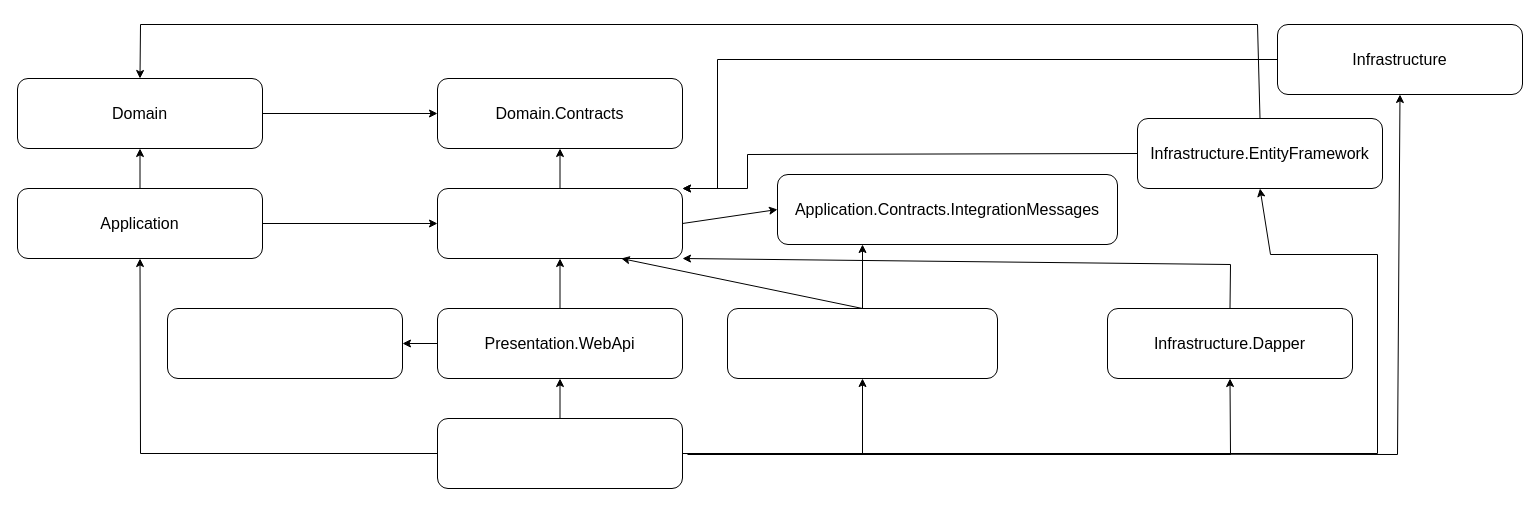
Image size: 1540x506. Some labels were removed from this diagram. The shapes that lost their labels are listed below. From the top down, each one's centre as x and y in pixels, then its label:
the point at 559,223: Application.Contracts
the point at 284,343: Presentation.WebApi.Contracts
the point at 862,343: Presentation.IntegrationMessages
the point at 559,453: Backend
